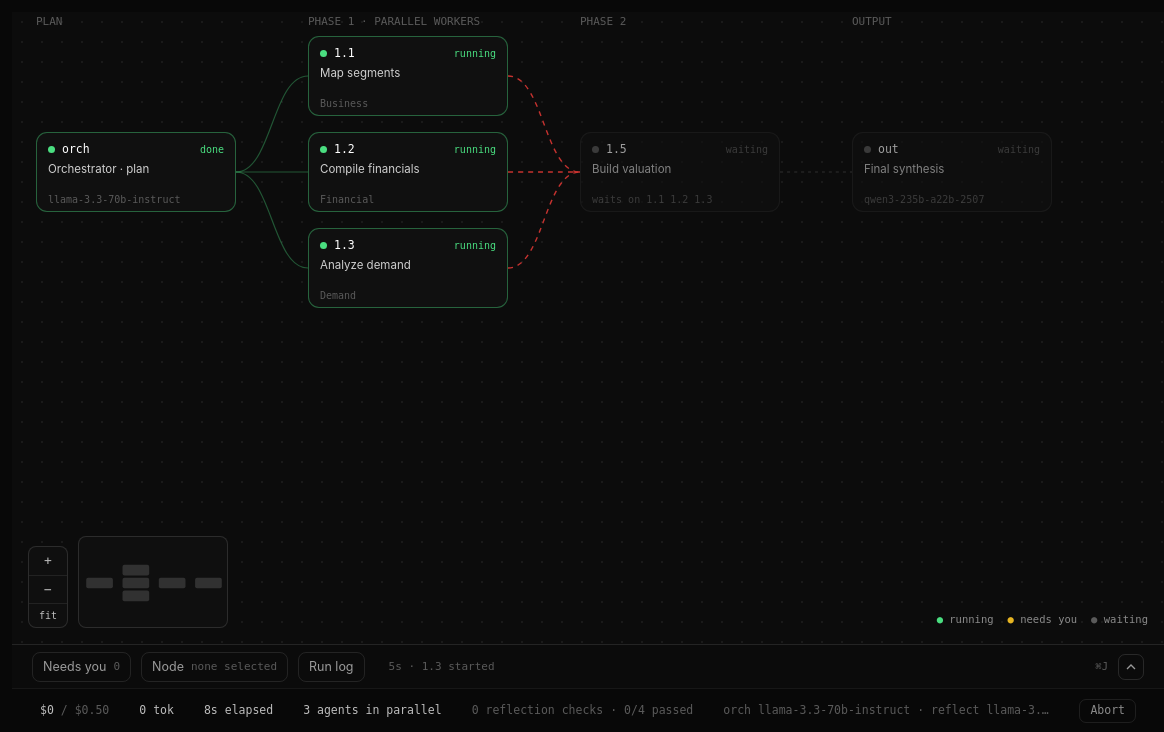
Test: bottom dock (Goal 7) › the right-hand inspector is gone: the canvas takes the width, the dock sits under it and above the stats strip
Expected: the button with test id "dock-chip-needs" reads "Needs you 0", 32,652 -> 131,682
Expected: the button with test id "dock-chip-node" reads "Node none selected", 141,652 -> 288,682
What coordinates should you click on to do the following:
click the button named "Expand panel"
I would click on:
 (1131, 667)
Its box is 1118,654 -> 1144,680.
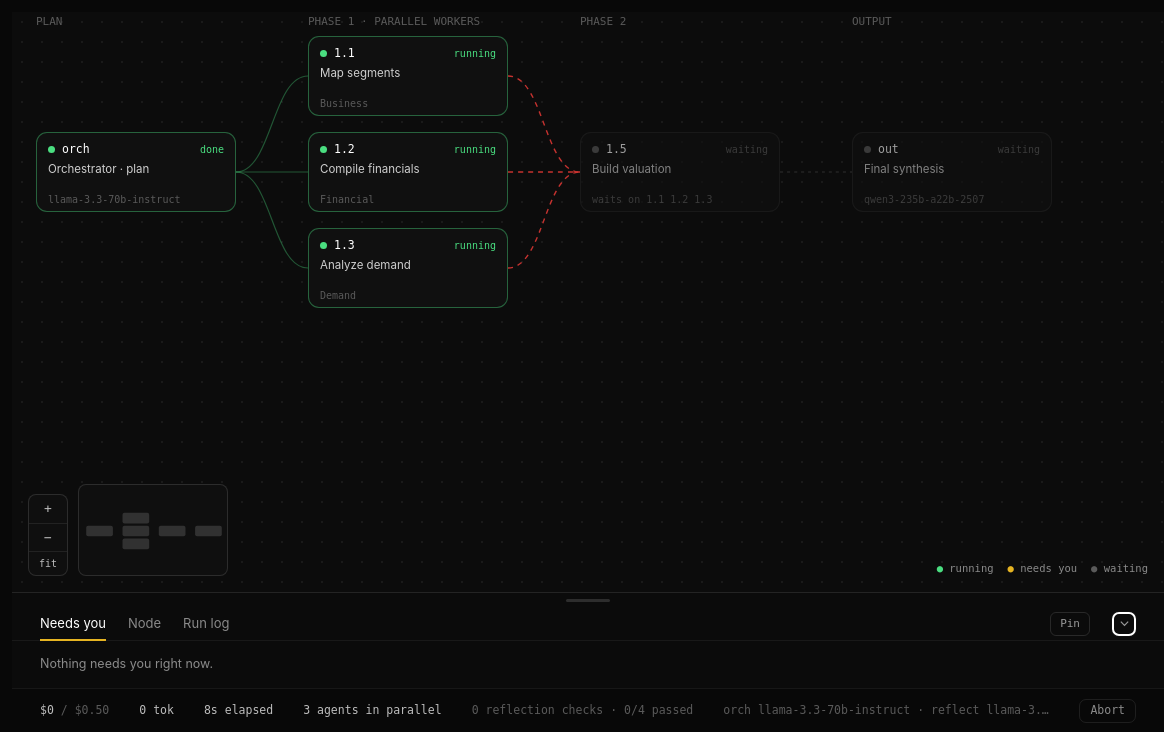
Expected: the element named "Resize panel" is shown, 566,599 -> 610,602
Expected: the tabs read "Needs you", "Node", "Run log", in this order
Expected: the button named "Collapse panel" is expanded, 1112,612 -> 1136,636
What coordinates should you click on to do the following:
click the tab "Run log"
I would click on:
 (206, 624)
Its box is 183,608 -> 229,641.
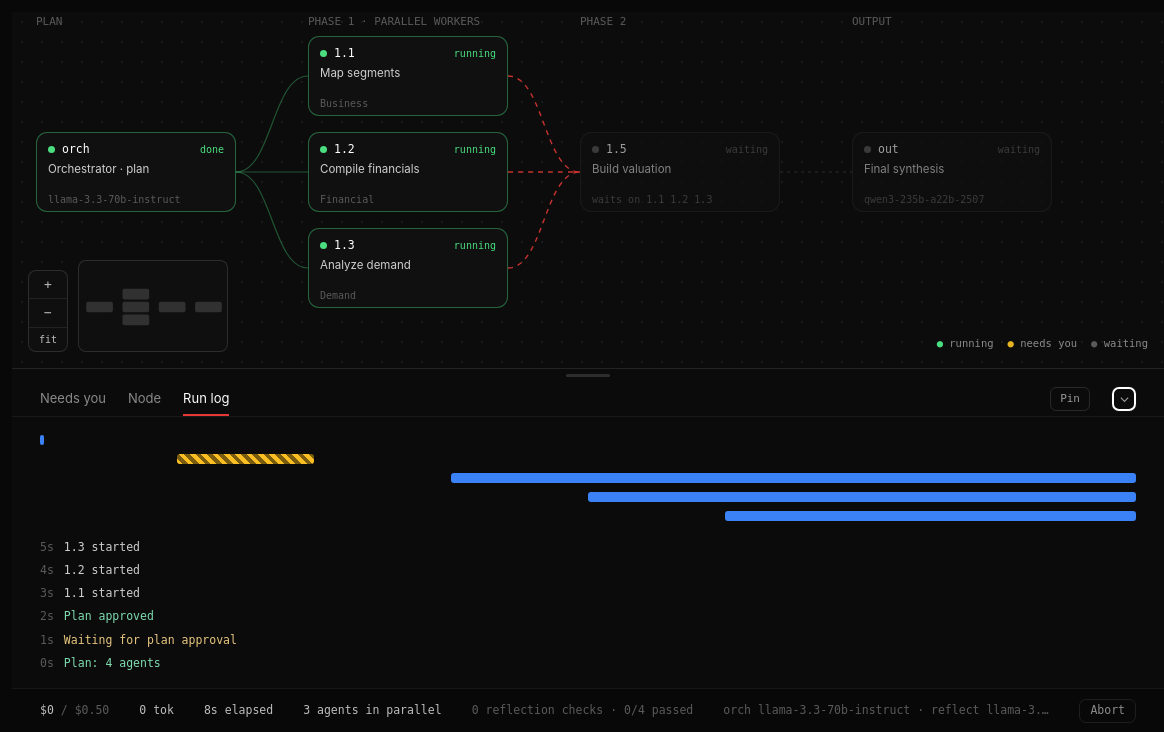
Expected: the list with test id "run-log" is shown, 40,540 -> 237,670
